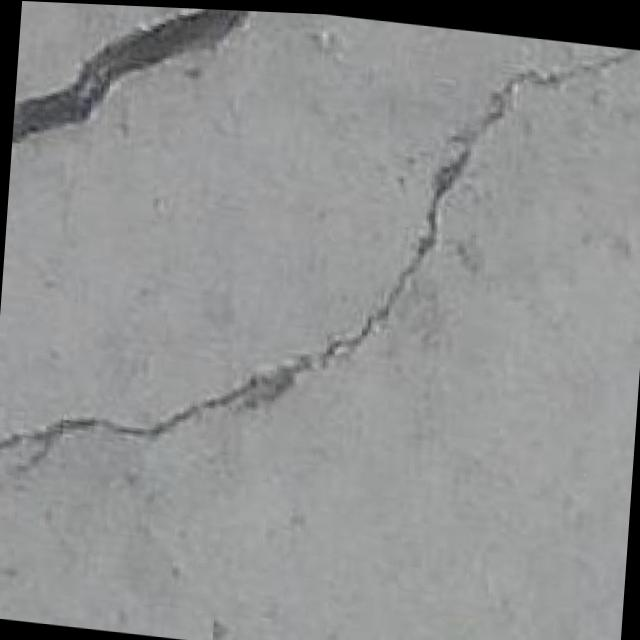Crack: (0, 0, 621, 524)
